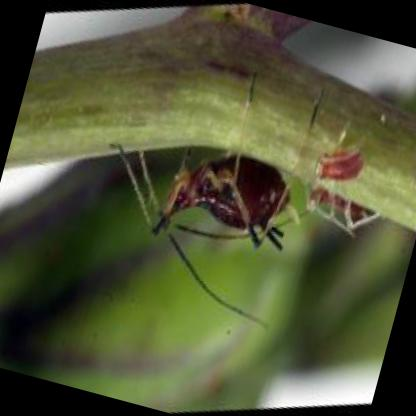uroleucon compositae: (151, 151, 300, 250)
